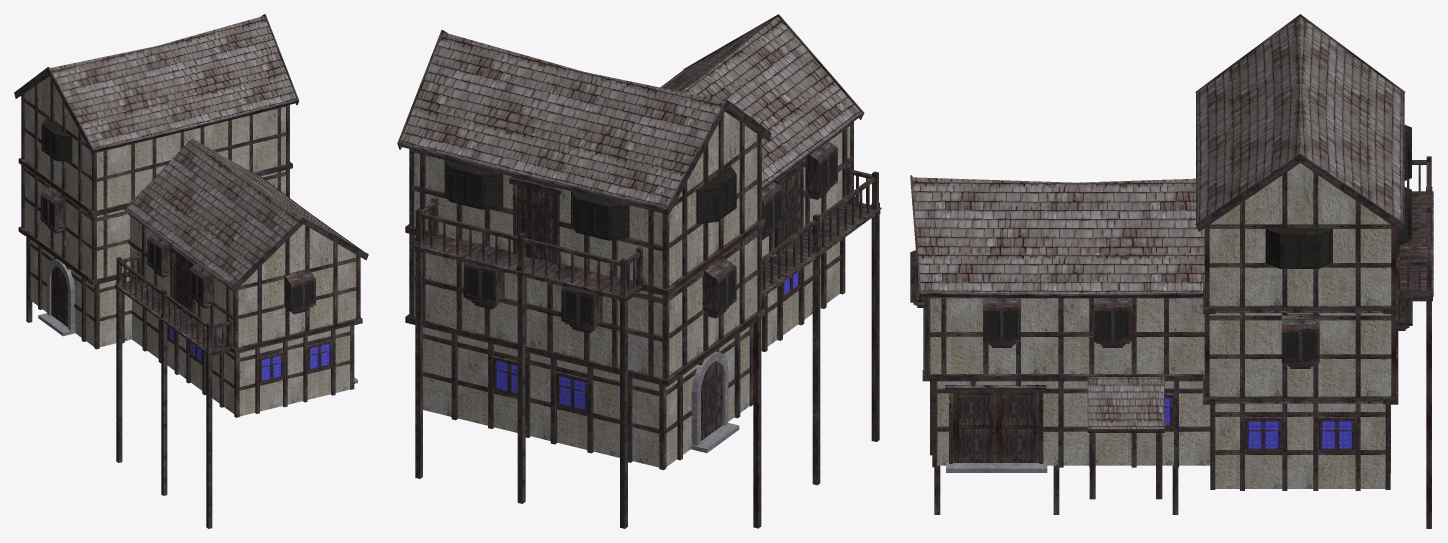
File: thouse03.dae
3 renders of one model, left to right at view 1: azimuth 30°, elevation 25°; view 2: azimuth 150°, elevation 25°; view 3: azimuth 270°, elevation 25°, orthographic. The views are drawn at different scales.
Visible parts, largest first — view 1: House2_Roof, House1_Roof, House2_Level3, House1_Level2, House1_Level1, House2_Level3_Beams, House1_Level1_Beams, House2_Level2, House1_Level2_Beams, Balcony4Stilts_001, House2_Level1, House2_Level2_Beams (+18 smaller); view 2: House2_Roof, House2_Level1, House2_Level2, House1_Roof, House2_Level3, House2_Level1_Beams, House2_Level2_Beams, House2_Level3_Beams, Balcony4Stilts_001, Balcony4Stilts, Balcony4, Balcony4_001 (+33 smaller); view 3: House1_Roof, House2_Roof, House2_Level3, House1_Level2, House2_Level2, House2_Level1, House1_Level1, House2_Level3_Beams, House2_Level1_Beams, House1_Level2_Beams, Roof2Outer, House2_Level2_Beams (+27 smaller).
Boxes of the visible parts, bbox=[...] form: House2_Roof: bbox=[50, 16, 296, 148]; House1_Roof: bbox=[126, 138, 355, 286]; House2_Level3: bbox=[25, 76, 285, 210]; House1_Level2: bbox=[130, 216, 356, 346]; House1_Level1: bbox=[132, 299, 350, 416]; House2_Level3_Beams: bbox=[21, 79, 289, 211]; House1_Level1_Beams: bbox=[131, 307, 354, 417]; House2_Level2: bbox=[25, 167, 285, 278]; House1_Level2_Beams: bbox=[128, 214, 360, 348]; Balcony4Stilts_001: bbox=[116, 290, 212, 528]; House2_Level1: bbox=[31, 240, 131, 347]; House2_Level2_Beams: bbox=[21, 165, 289, 280]; House2_Roof: bbox=[400, 32, 724, 207]; House2_Level1: bbox=[423, 326, 749, 467]; House2_Level2: bbox=[414, 231, 757, 377]; House1_Roof: bbox=[662, 16, 860, 186]; House2_Level3: bbox=[414, 112, 757, 287]; House2_Level1_Beams: bbox=[423, 324, 753, 470]; House2_Level2_Beams: bbox=[409, 228, 761, 379]; House2_Level3_Beams: bbox=[409, 115, 761, 288]; Balcony4Stilts_001: bbox=[753, 215, 879, 528]; Balcony4Stilts: bbox=[415, 252, 627, 528]; Balcony4: bbox=[413, 197, 643, 298]; Balcony4_001: bbox=[762, 165, 881, 295]; House1_Roof: bbox=[912, 177, 1204, 293]; House2_Roof: bbox=[1198, 17, 1402, 221]; House2_Level3: bbox=[1209, 163, 1391, 305]; House1_Level2: bbox=[930, 298, 1204, 373]; House2_Level2: bbox=[1209, 313, 1391, 396]; House2_Level1: bbox=[1215, 403, 1385, 488]; House1_Level1: bbox=[937, 381, 1210, 465]; House2_Level3_Beams: bbox=[1204, 172, 1397, 306]; House2_Level1_Beams: bbox=[1210, 403, 1390, 490]; House1_Level2_Beams: bbox=[925, 296, 1204, 374]; Roof2Outer: bbox=[1088, 377, 1163, 428]; House2_Level2_Beams: bbox=[1204, 313, 1397, 397].
Bounding box in the file's own units: 8.89 × 13.81 × 14.1.
Materials: 25 (25 with a texture image).
